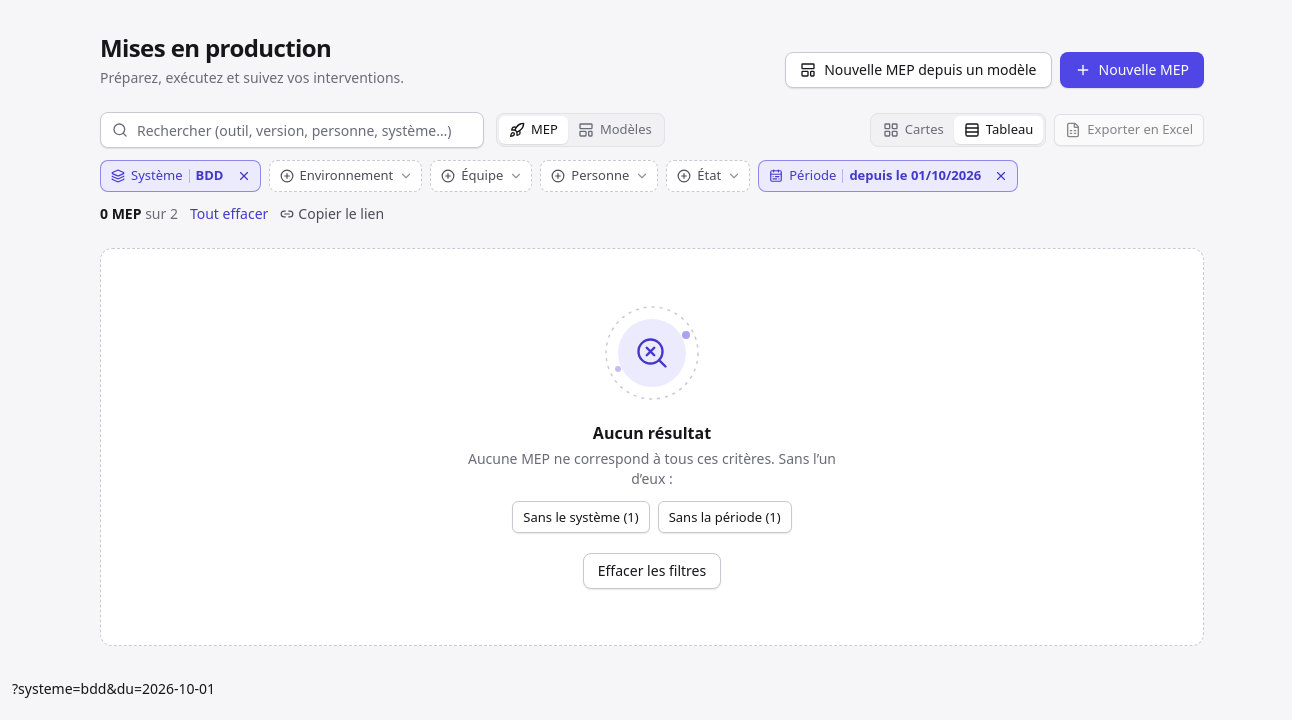
Scenario: ListeMepPage › sans résultat, propose de retirer un critère avec le nombre de MEP retrouvées
This screenshot has width=1292, height=720.
Expected: the heading "Aucun résultat" is shown, [593,421,711,445]
Expected: the button "Sans le système (1)" is shown, [512,501,650,533]
Click the button "Sans la période (1)" at (725, 517), box [658,501,792,533]
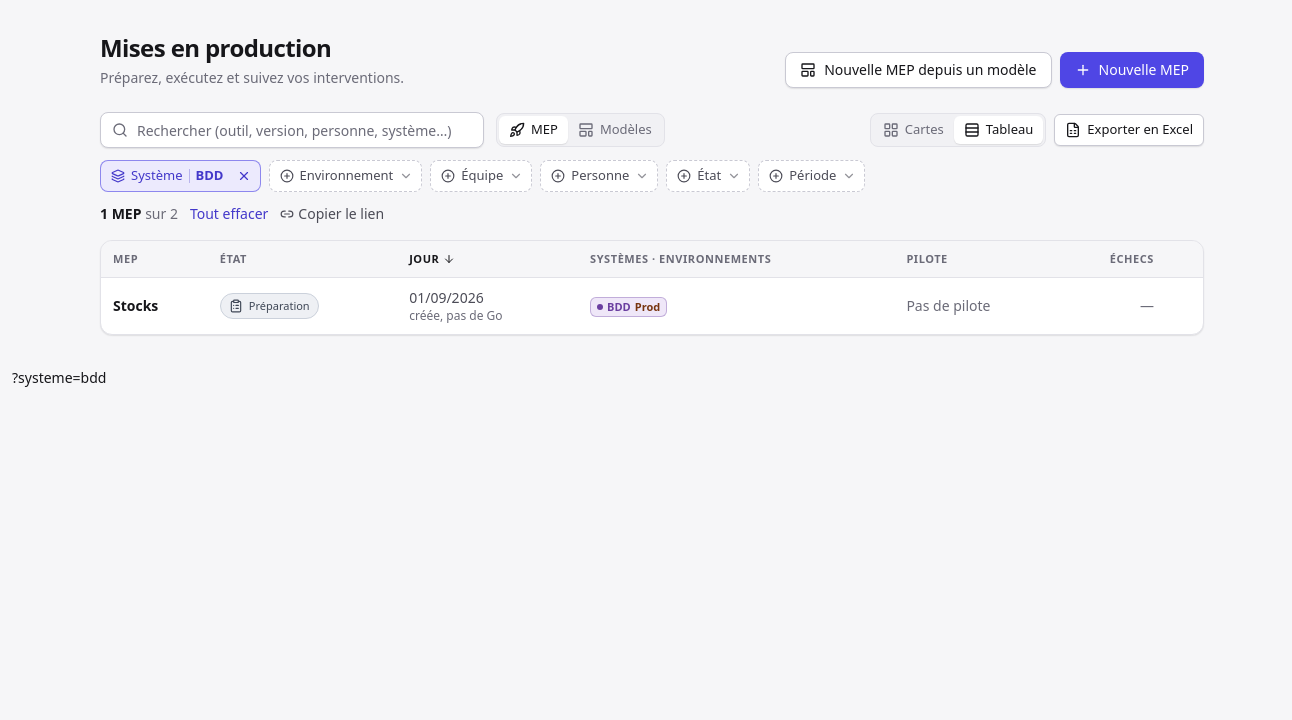
Now the link "Stocks" is shown, box [113,296,158,316]
Now the text named "adresse" reads "?systeme=bdd", box [12,368,106,387]
